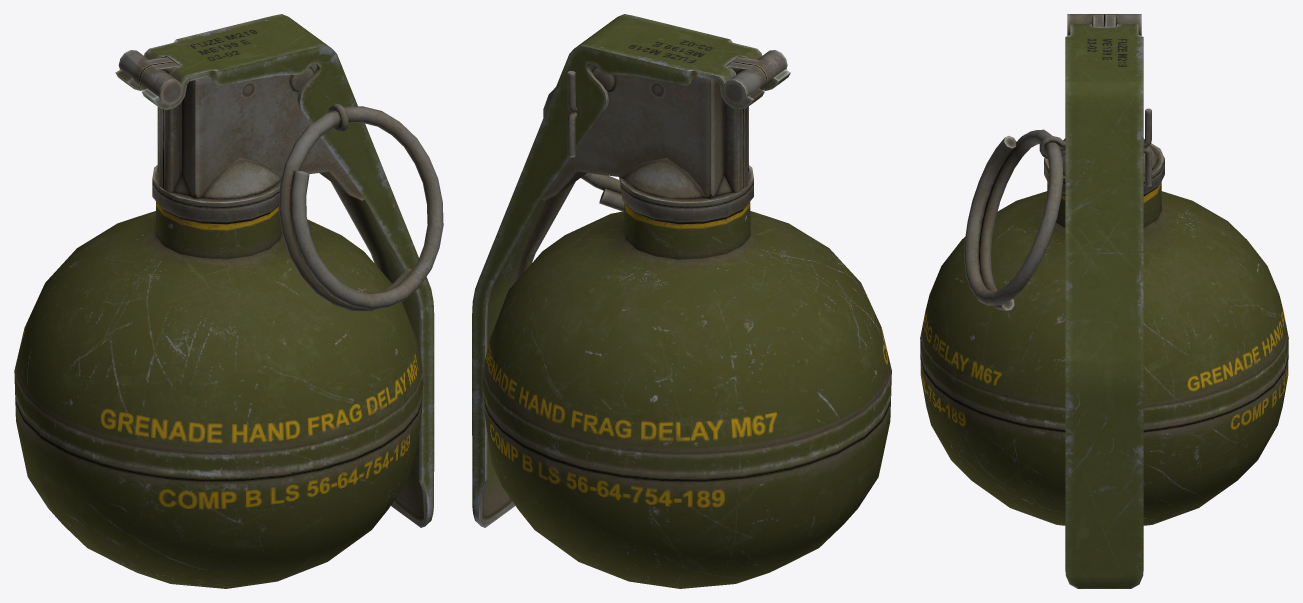
File: M67_Frag.FBX
3 views of the same model, side by side, from view 1: azimuth 30°, elevation 25°; view 2: azimuth 150°, elevation 25°; view 3: azimuth 270°, elevation 25° (orthographic). The views are drawn at different scales.
Parts seen in each view (by area): view 1: M67_setting; view 2: M67_setting; view 3: M67_setting.
Part boxes in pixels (x1,y1,x2,y2): M67_setting: [14, 14, 443, 588]; M67_setting: [472, 14, 891, 588]; M67_setting: [920, 14, 1288, 588].
Bounding box in the file's own units: 6.51 × 8.71 × 6.23.
